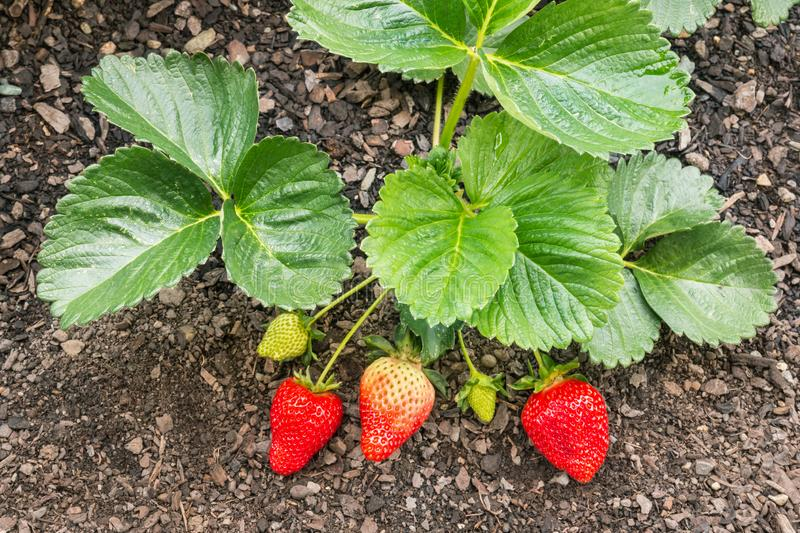ripe: (515, 372, 615, 490), (266, 377, 348, 481)
unripe: (359, 354, 442, 467), (253, 305, 313, 365), (466, 375, 503, 427)
